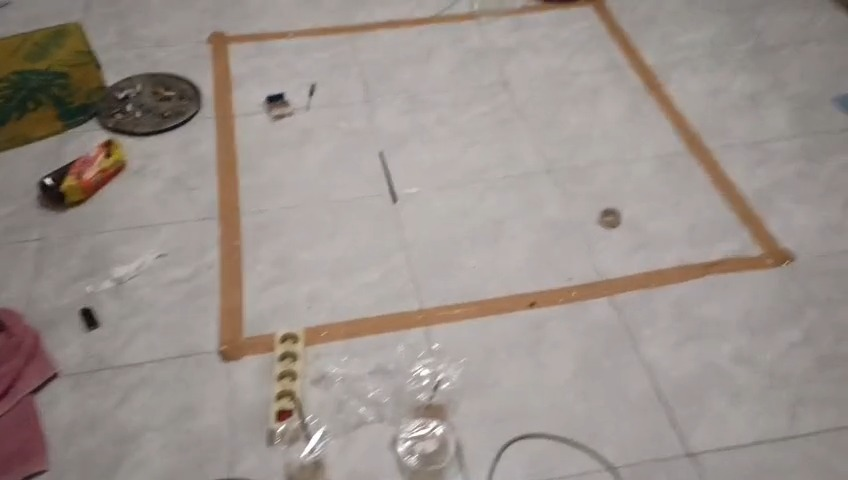floor marking: (309, 0, 793, 344), (210, 5, 558, 360)
